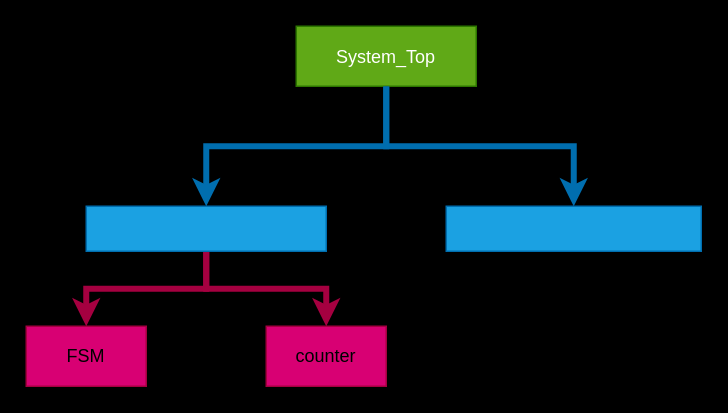
Image size: 728x413. Some labels were removed from this diagram. Here are the shapes that lost their labels. From the top down, the box of each, then its label:
(85, 205, 326, 251): Main_FSM_Counter
(445, 205, 701, 251): Clock_Divider
